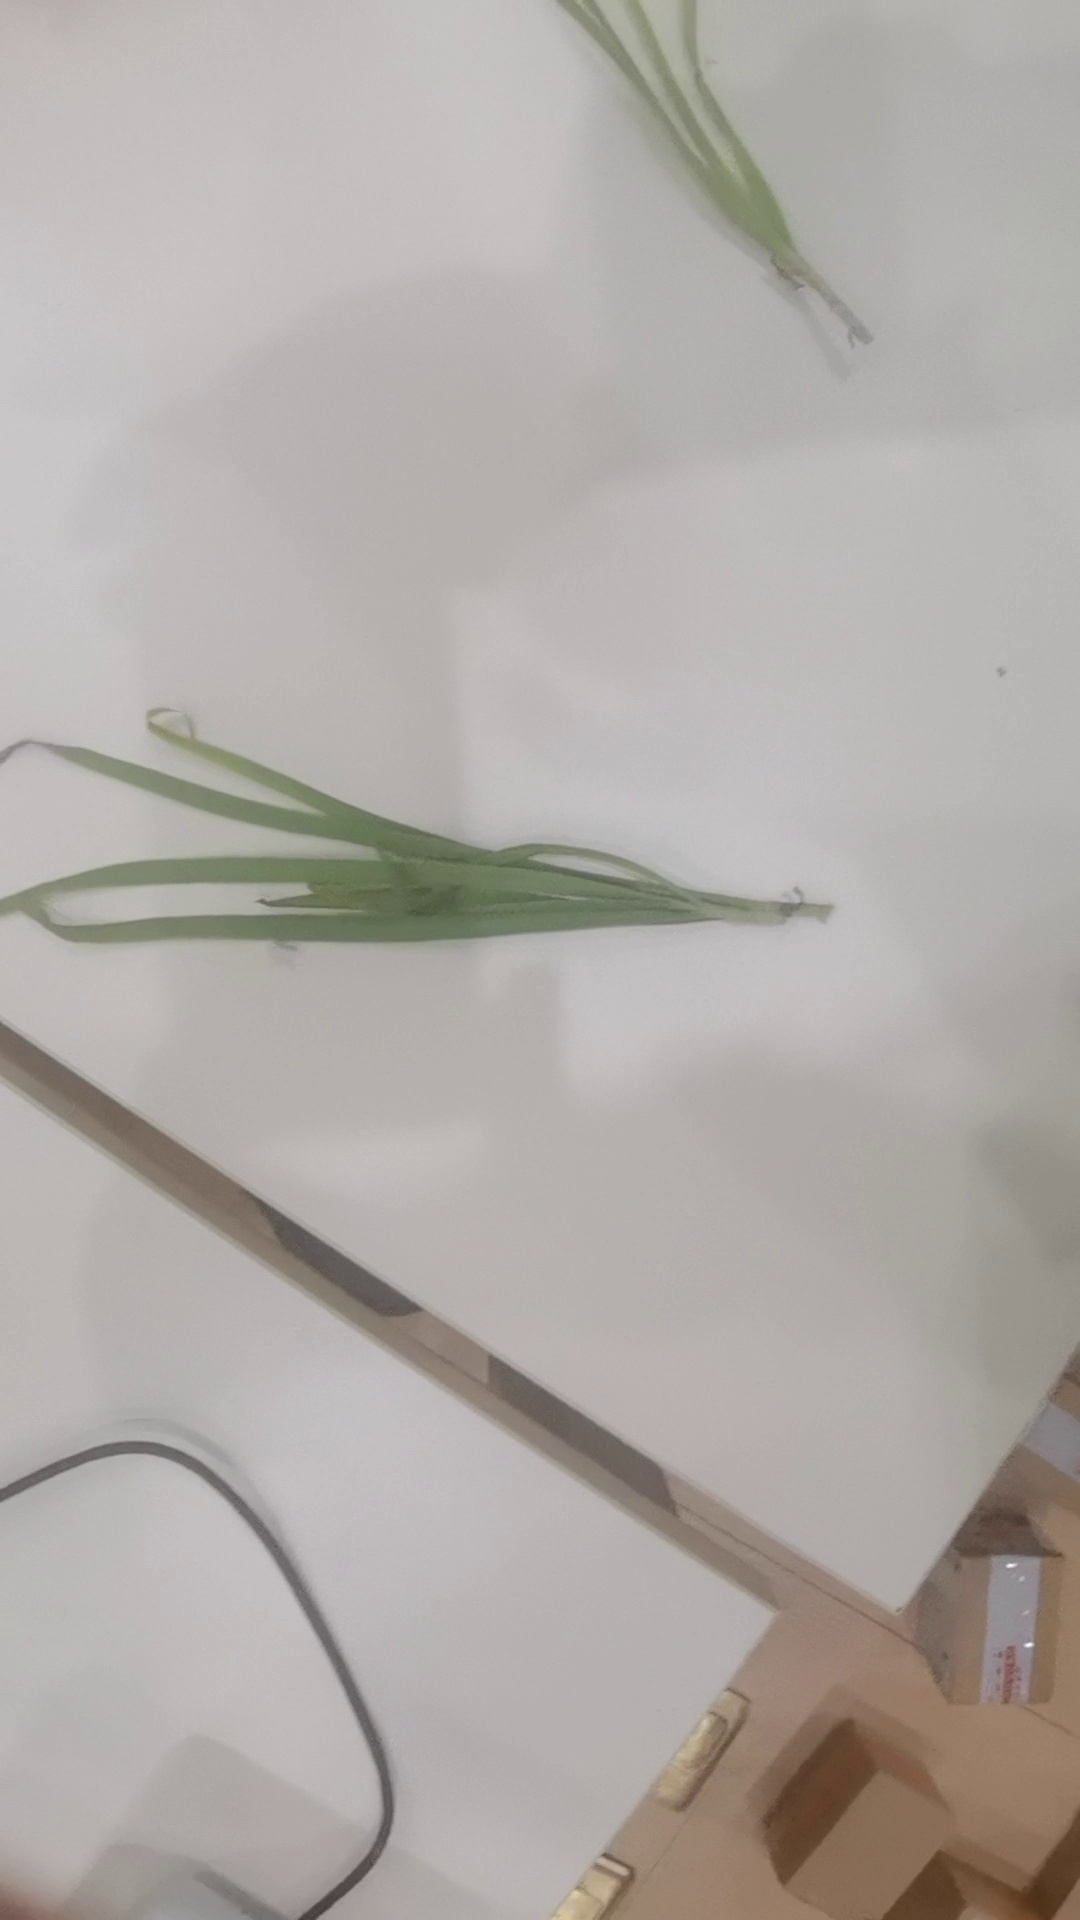chives: (1, 711, 853, 957), (436, 1, 910, 360)
